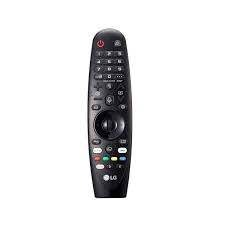remote control: (81, 25, 140, 203)
